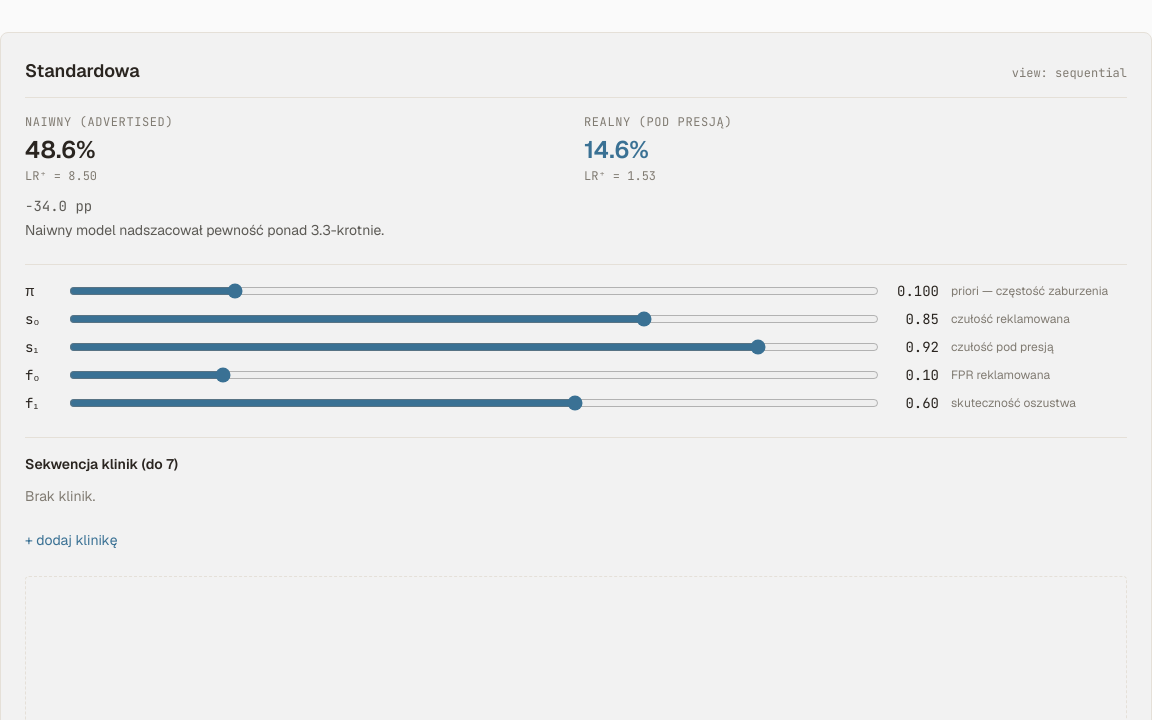
Test: BayesAnalyzer (port 1:1 z v4 WC tests) › WC9 — addClinic seeds new clinic z CURRENT s1 state, NIE preset value
The width and height of the screenshot is (1152, 720).
Set the slider with id "slider-s1" to "0.85" at (644, 347), box [69, 339, 879, 355]
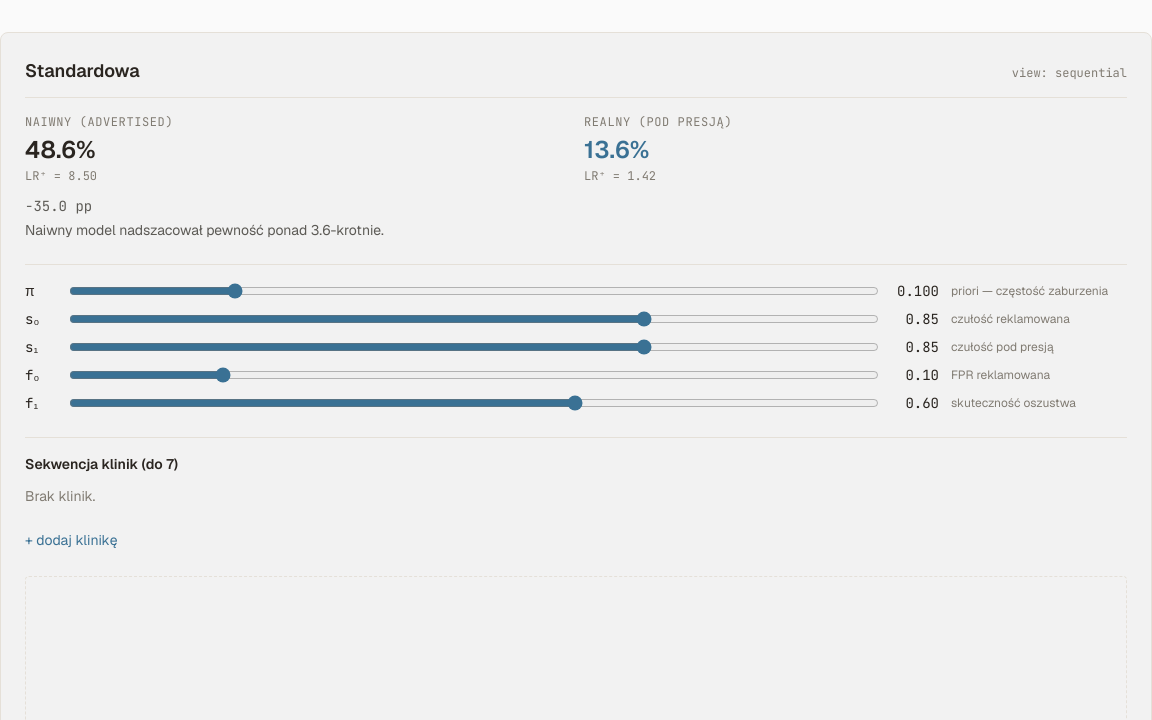
Click the button "+ dodaj klinikę" at (71, 540), box [25, 530, 118, 550]
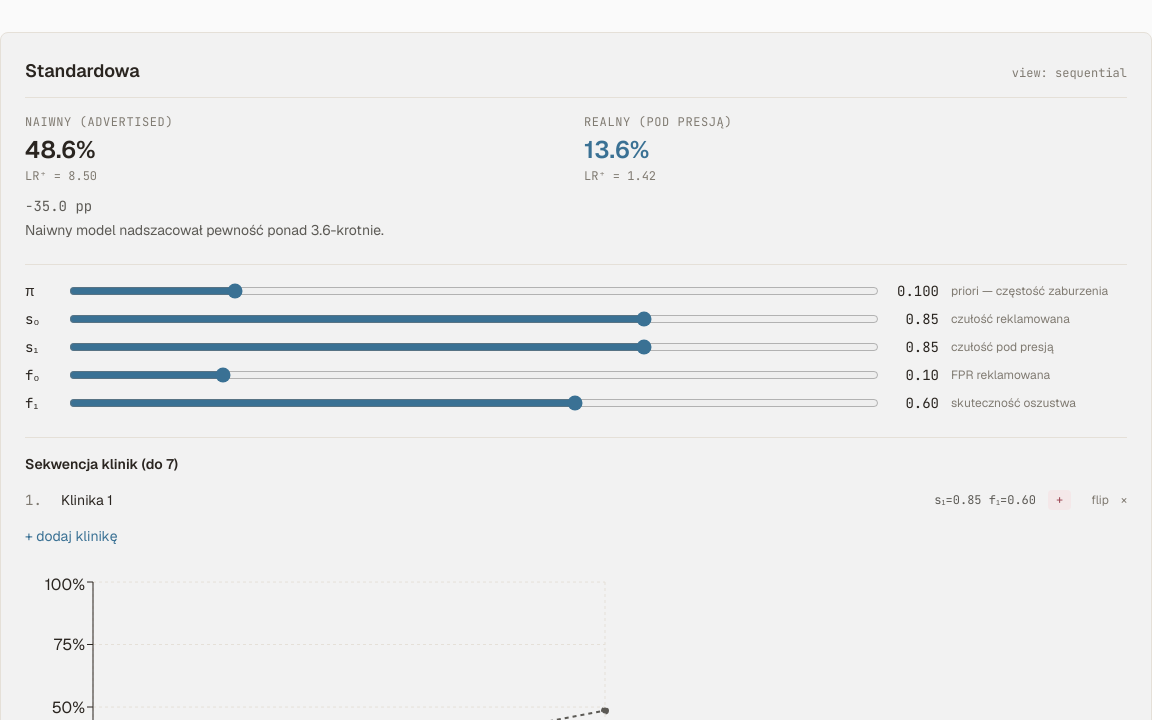
Result: the text "s₁=0.85 f₁=0.60" is shown at [934, 492, 1036, 508]
